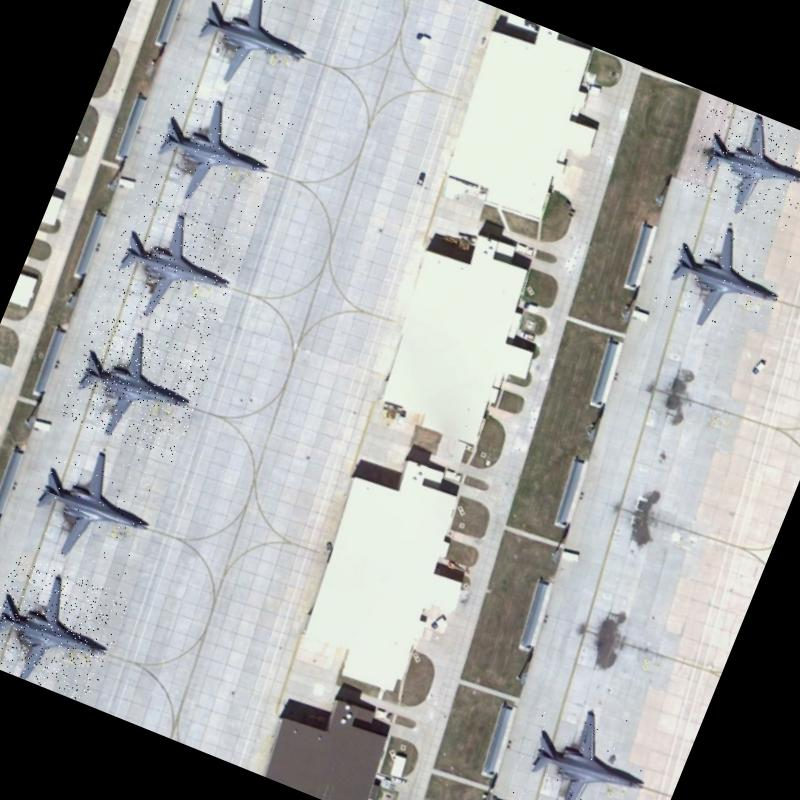A10: (94, 188, 254, 346), (55, 310, 216, 462), (16, 427, 170, 583), (138, 78, 292, 228), (650, 204, 800, 353), (0, 550, 131, 704), (503, 689, 664, 800), (673, 94, 800, 233), (180, 0, 326, 106)
